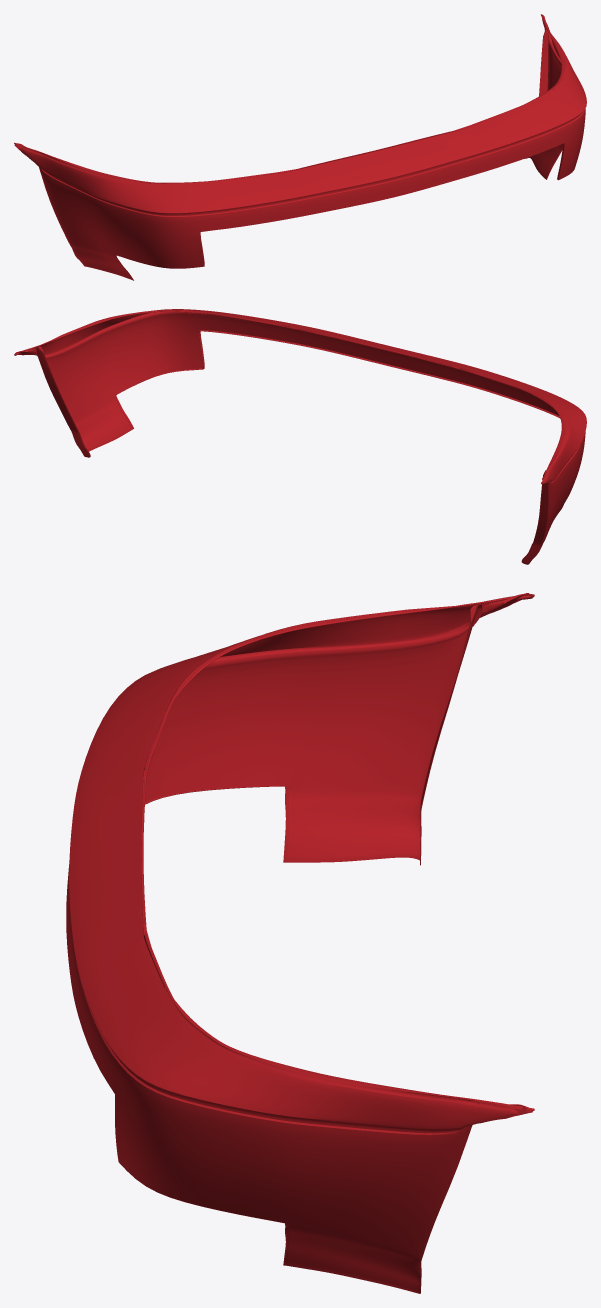
The model's file is cut.glb.
The picture shows the model from 3 angles, top to bottom: view 1: azimuth 30°, elevation 25°; view 2: azimuth 150°, elevation 25°; view 3: azimuth 270°, elevation 25°; orthographic projection. The views are drawn at different scales.
Visible parts, largest first — view 1: Miata_Aero_RearBarCut; view 2: Miata_Aero_RearBarCut; view 3: Miata_Aero_RearBarCut.
Boxes of the visible parts, x1,y1,x2,y2 form: Miata_Aero_RearBarCut: [14, 14, 586, 280]; Miata_Aero_RearBarCut: [14, 309, 586, 564]; Miata_Aero_RearBarCut: [66, 593, 534, 1293].
Bounding box in the file's own units: 65.16 × 13.49 × 24.96.
